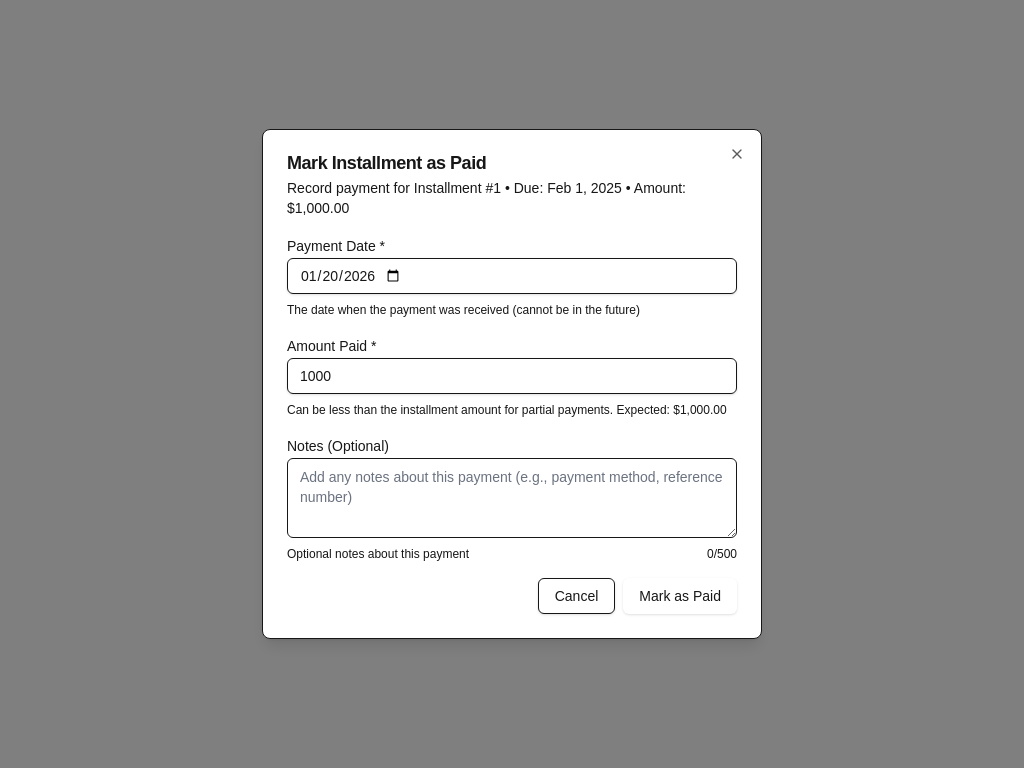
Test case: MarkAsPaidModal › Character Counter › should update character counter as user types
Type "Payment received" into the text box labelled "Notes (Optional)". click: {"x": 512, "y": 498}
box: [287,458,737,538]
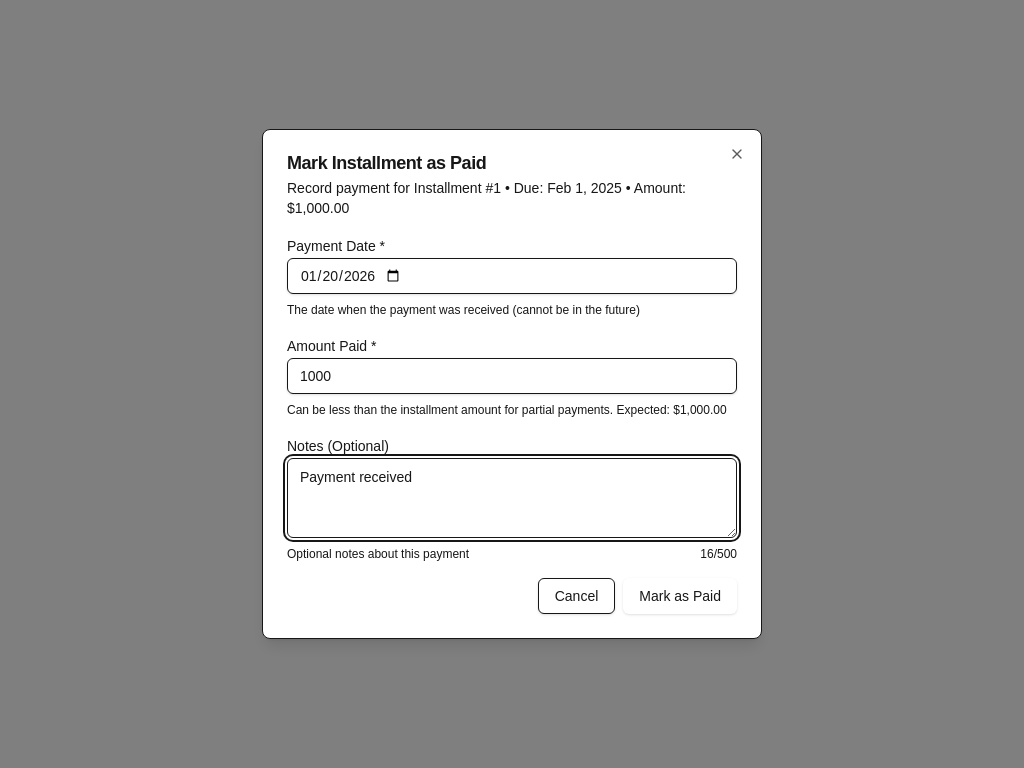
Check: the text "16/500" is shown, box [700,546,737,562]
